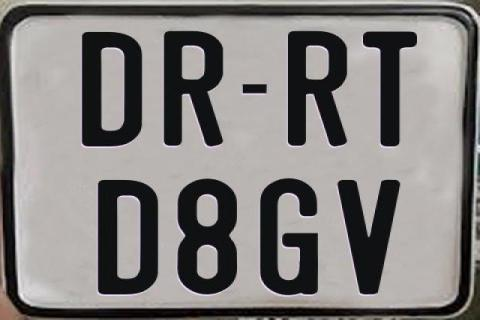0: (176, 178, 238, 294)
D: (97, 178, 163, 296), (82, 32, 146, 150)
G: (258, 178, 321, 298)
R: (287, 30, 350, 148), (163, 31, 225, 150)
T: (360, 29, 414, 145)
V: (338, 180, 404, 298)
